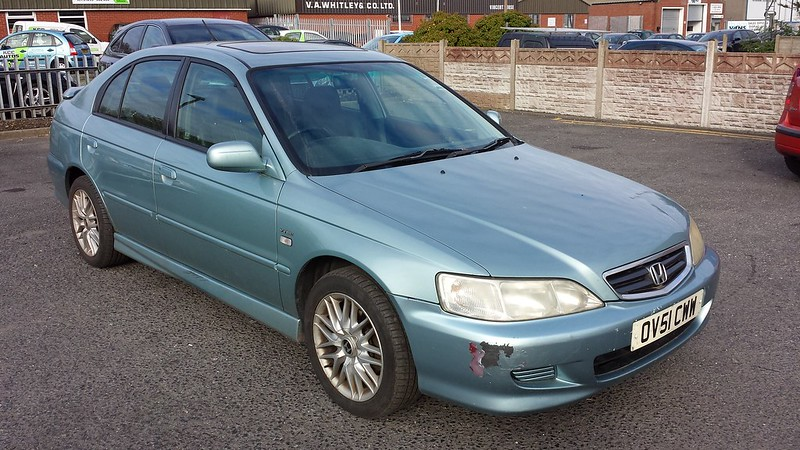number_plate: (614, 285, 743, 354)
